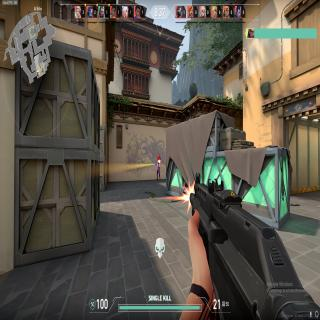ENEMY-BODY: (156, 160, 161, 181)
